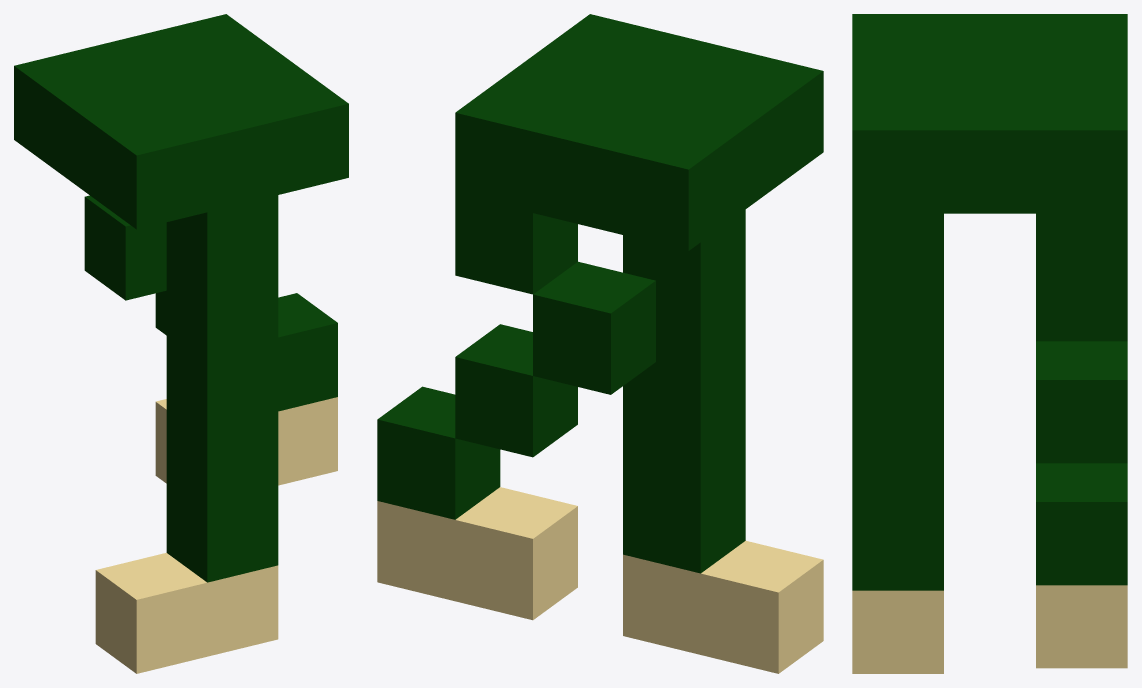
The model's file is human-7-torso_walk.obj.
The picture shows the model from 3 angles, left to right: view 1: azimuth 30°, elevation 25°; view 2: azimuth 150°, elevation 25°; view 3: azimuth 270°, elevation 25°; orthographic projection. The views are drawn at different scales.
Visible parts, largest first — view 1: torso_walk; view 2: torso_walk; view 3: torso_walk.
Part boxes in pixels (<box>): torso_walk: <box>14,14,348,673</box>; torso_walk: <box>377,14,823,673</box>; torso_walk: <box>852,14,1127,673</box>.
Size of the model in its own units: 0.4 by 0.7 by 0.3.
1 material, 1 textured.
